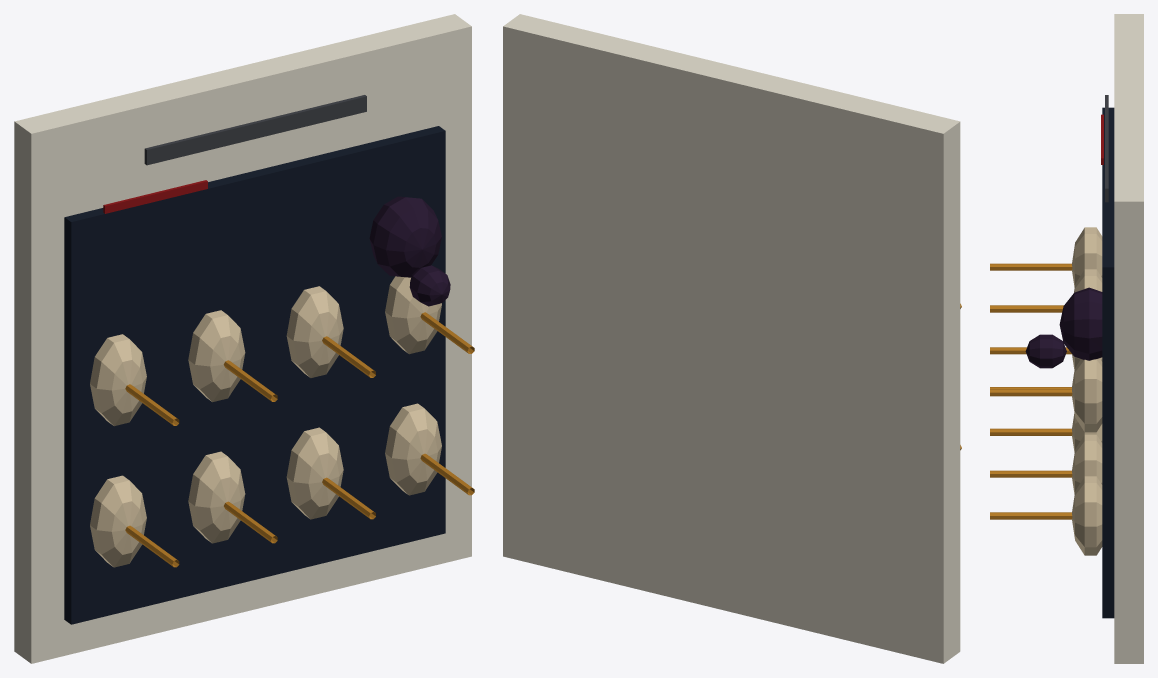
Rendered from park_02.obj.
3 views of the same model, side by side, from view 1: azimuth 30°, elevation 25°; view 2: azimuth 150°, elevation 25°; view 3: azimuth 270°, elevation 25° (orthographic). The views are drawn at different scales.
Parts seen in each view (by area): view 1: PhotoImage, PhotoFrame, NinthRiderShadow, Caption, HorseBody4, HorseBody3, HorseBody6, HorseBody1, HorseBody5, HorseBody0, HorseBody2, HorseBody7 (+2 smaller); view 2: PhotoFrame; view 3: PhotoFrame, PhotoImage, NinthRiderShadow, HorseBody3, HorseBody7, HorseBody4, HorseBody2, NinthHead, HorsePole2, HorsePole3, HorsePole4, HorsePole7 (+6 smaller).
Boxes of the visible parts, x1,y1,x2,y2 form: PhotoImage: [64, 126, 445, 624]; PhotoFrame: [14, 14, 471, 663]; NinthRiderShadow: [369, 196, 441, 277]; Caption: [144, 95, 366, 165]; HorseBody4: [90, 334, 146, 426]; HorseBody3: [385, 403, 441, 495]; HorseBody6: [286, 286, 343, 377]; HorseBody1: [188, 451, 245, 543]; HorseBody5: [188, 310, 245, 402]; HorseBody0: [90, 475, 146, 567]; HorseBody2: [286, 427, 343, 519]; HorseBody7: [385, 276, 441, 354]; PhotoFrame: [503, 14, 960, 663]; PhotoFrame: [1114, 14, 1143, 663]; PhotoImage: [1102, 107, 1114, 618]; NinthRiderShadow: [1059, 287, 1102, 360]; HorseBody3: [1072, 476, 1102, 555]; HorseBody7: [1072, 358, 1102, 432]; HorseBody4: [1072, 227, 1102, 287]; HorseBody2: [1072, 434, 1102, 494]; NinthHead: [1025, 334, 1066, 368]; HorsePole2: [990, 470, 1072, 477]; HorsePole3: [990, 512, 1072, 519]; HorsePole4: [990, 263, 1072, 270]; HorsePole7: [990, 389, 1072, 396].
Size of the model in its own units: 3 by 3.45 by 1.04.
